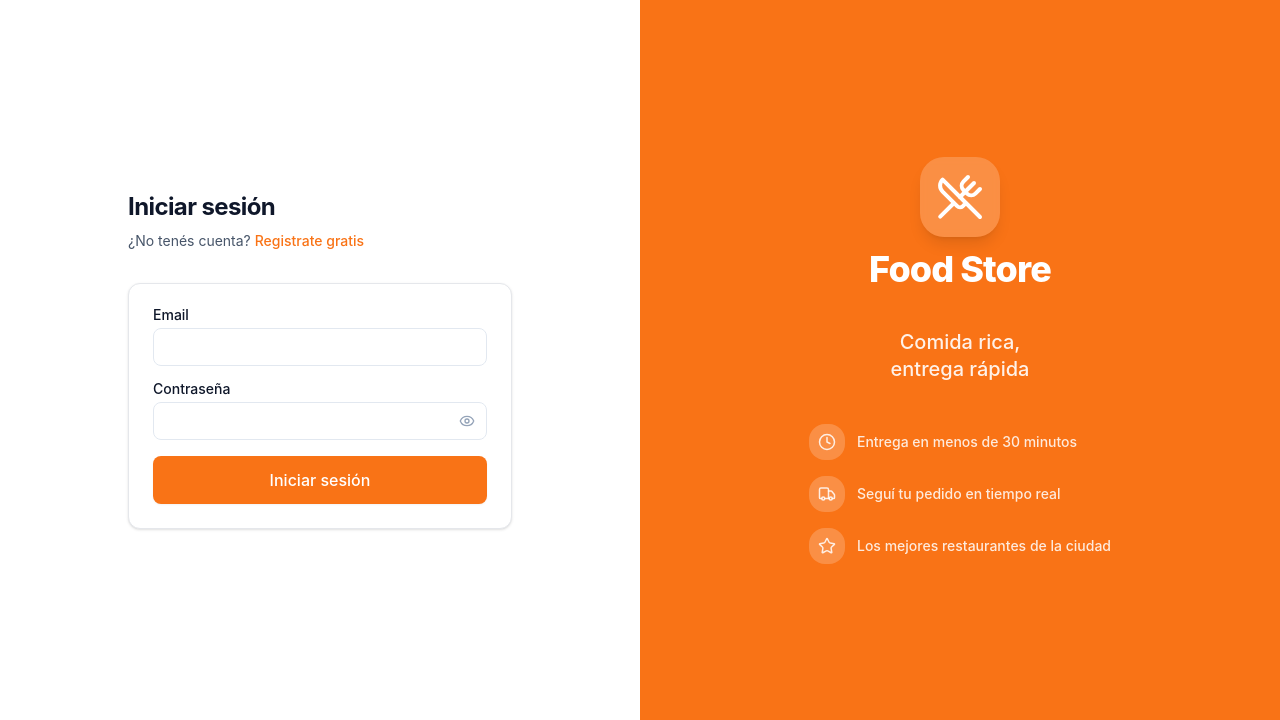
LoginPage › shows INVALID_CREDENTIALS error
This screenshot has width=1280, height=720.
In the field labelled "Email": [320, 347] box x1=153 y1=328 x2=487 y2=366, type "user@example.com"
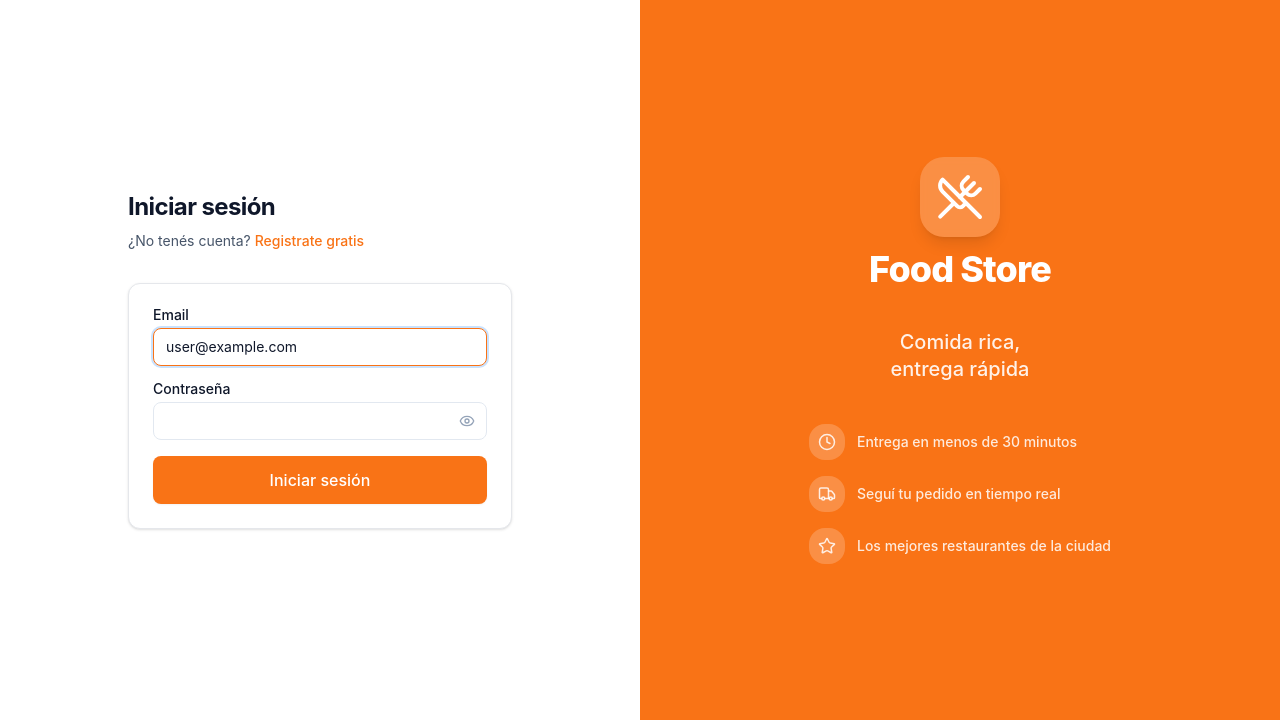
In the password field labelled "Contraseña": [320, 421] box x1=153 y1=402 x2=487 y2=440, type "wrongpassword"
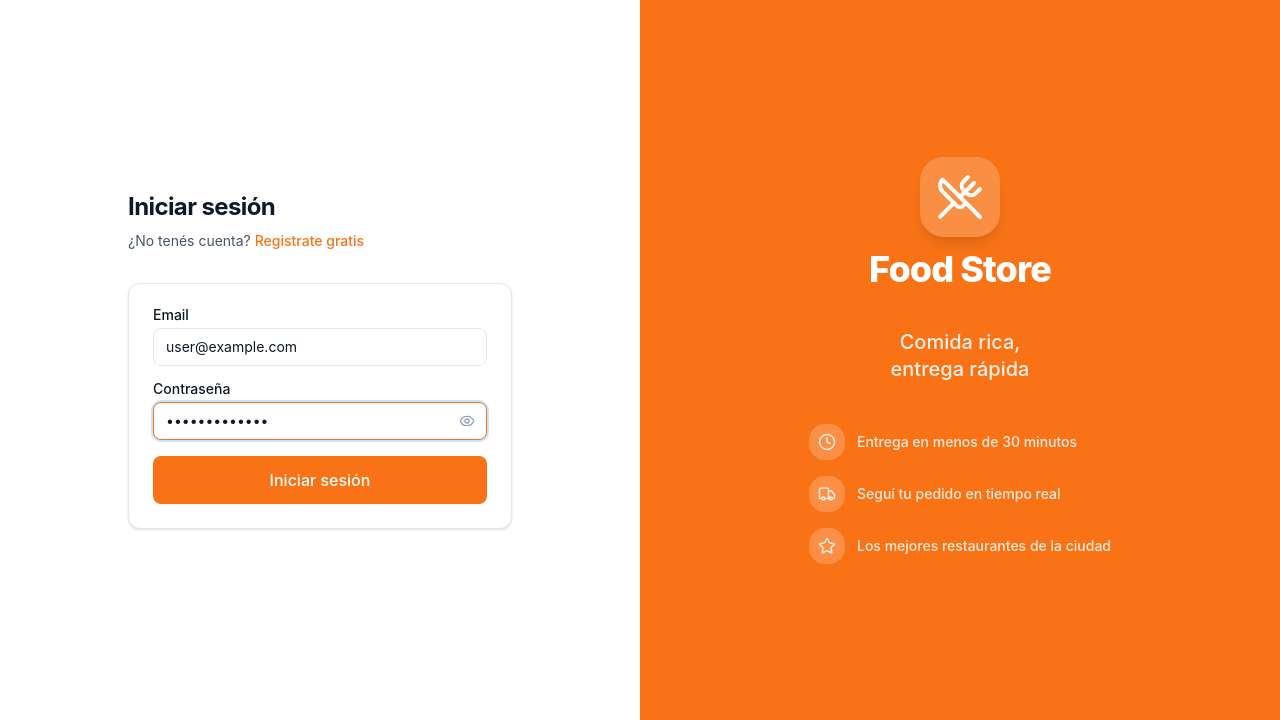
Click the button "Iniciar sesión": [320, 480] box x1=153 y1=456 x2=487 y2=504
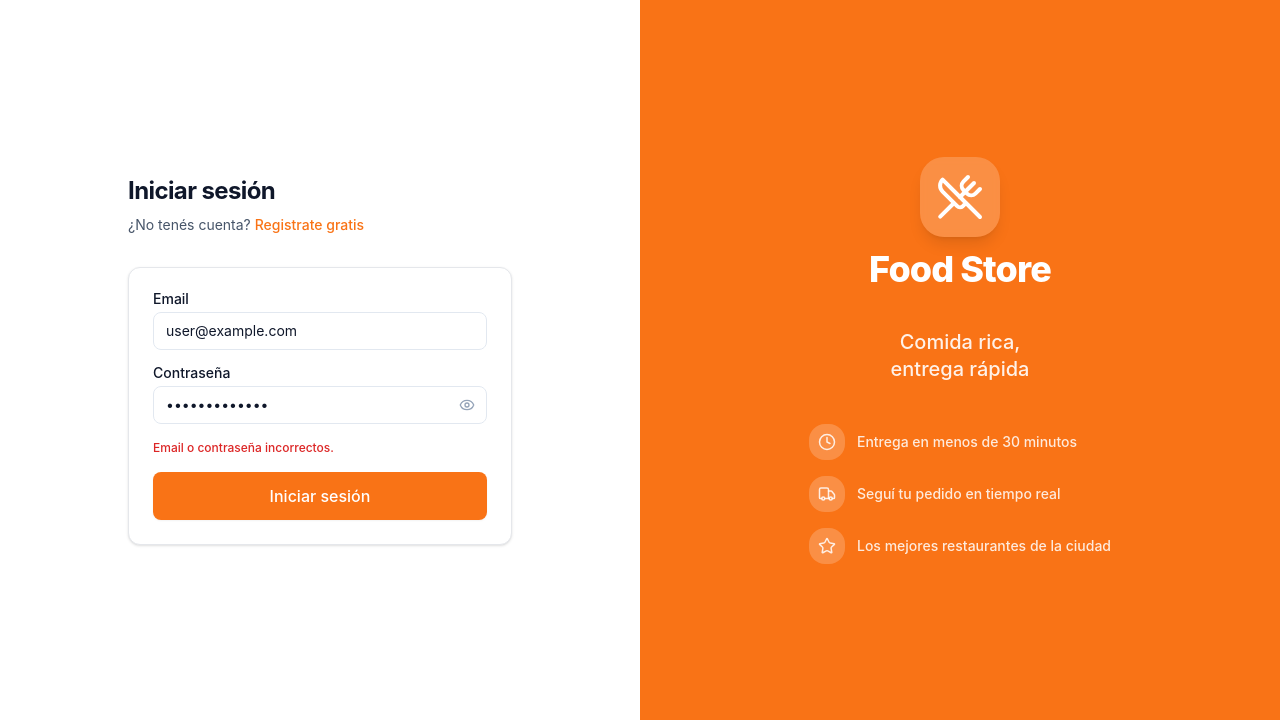
Expected: the text "Email o contraseña incorrectos." is shown, x1=153 y1=440 x2=334 y2=455
